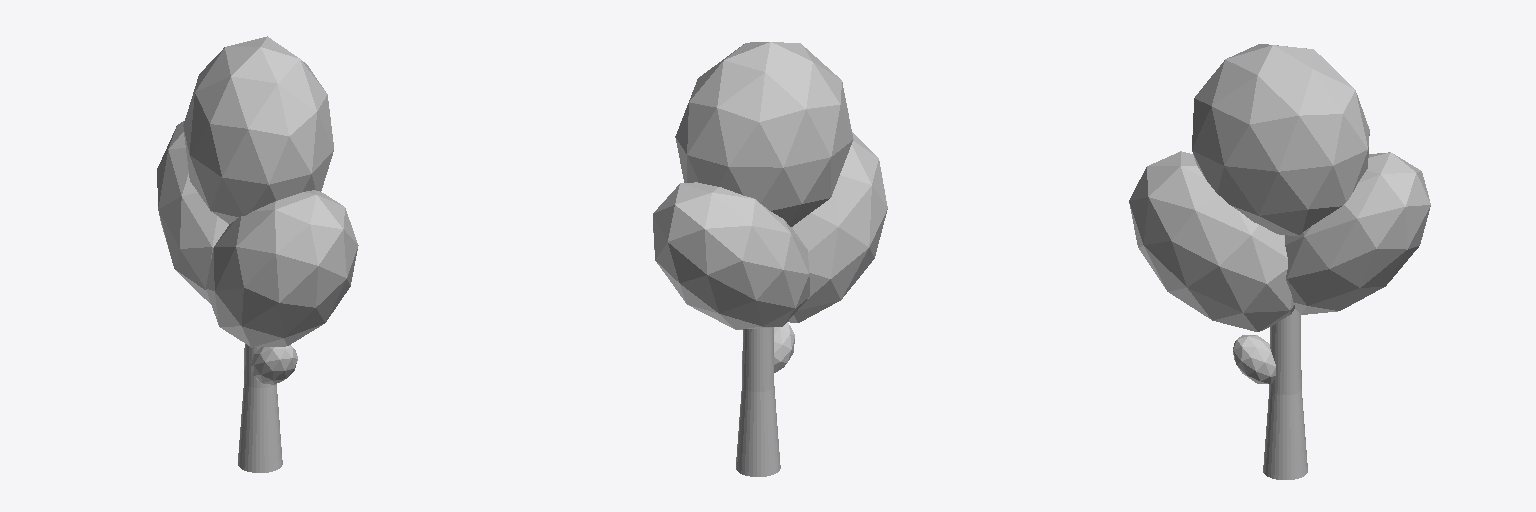
The model's file is drzewo3.obj.
3 views of the same model, side by side, from view 1: azimuth 30°, elevation 25°; view 2: azimuth 150°, elevation 25°; view 3: azimuth 270°, elevation 25° (orthographic).
Visible parts, largest first — view 1: drzewo_h3_low_Baked; view 2: drzewo_h3_low_Baked; view 3: drzewo_h3_low_Baked.
Boxes of the visible parts, <box> form: drzewo_h3_low_Baked: <box>157,36,358,472</box>; drzewo_h3_low_Baked: <box>653,42,887,476</box>; drzewo_h3_low_Baked: <box>1129,44,1430,479</box>.
Bounding box in the file's own units: 4.59 × 13 × 8.42.